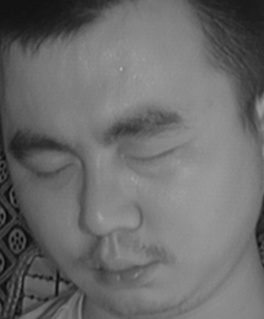blink: (127, 136, 182, 178), (29, 153, 76, 189)
mouth: (87, 243, 159, 292)
